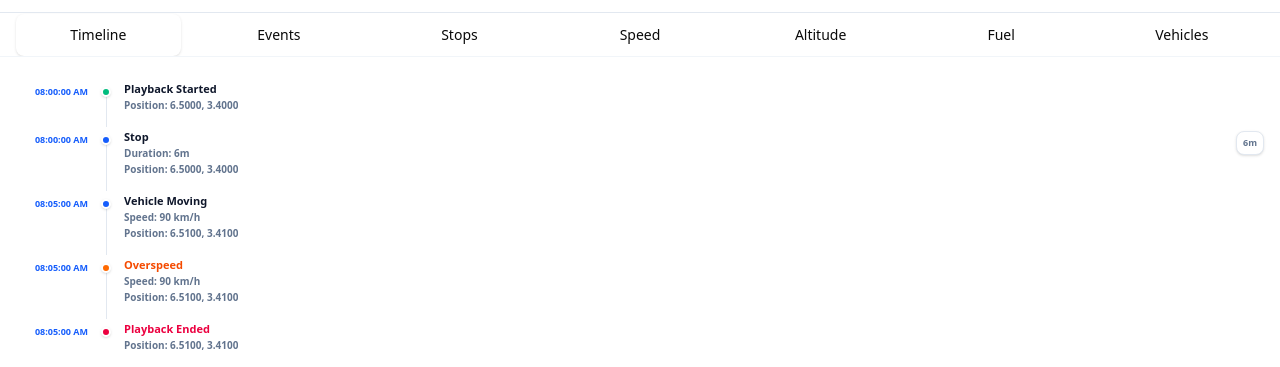
Test: PlaybackBottomPanel › shows altitude entries when telemetry includes elevation
The width and height of the screenshot is (1280, 367).
Press the mouse on the tab "Altitude": (821, 34) [738,14,903,56]
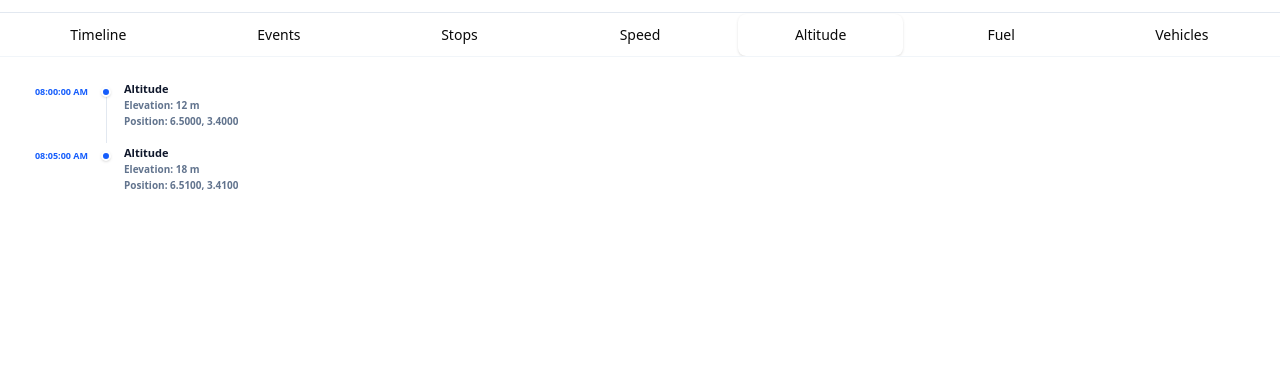
Check: the text "Elevation: 12 m" is shown, box [124,98,200,112]
